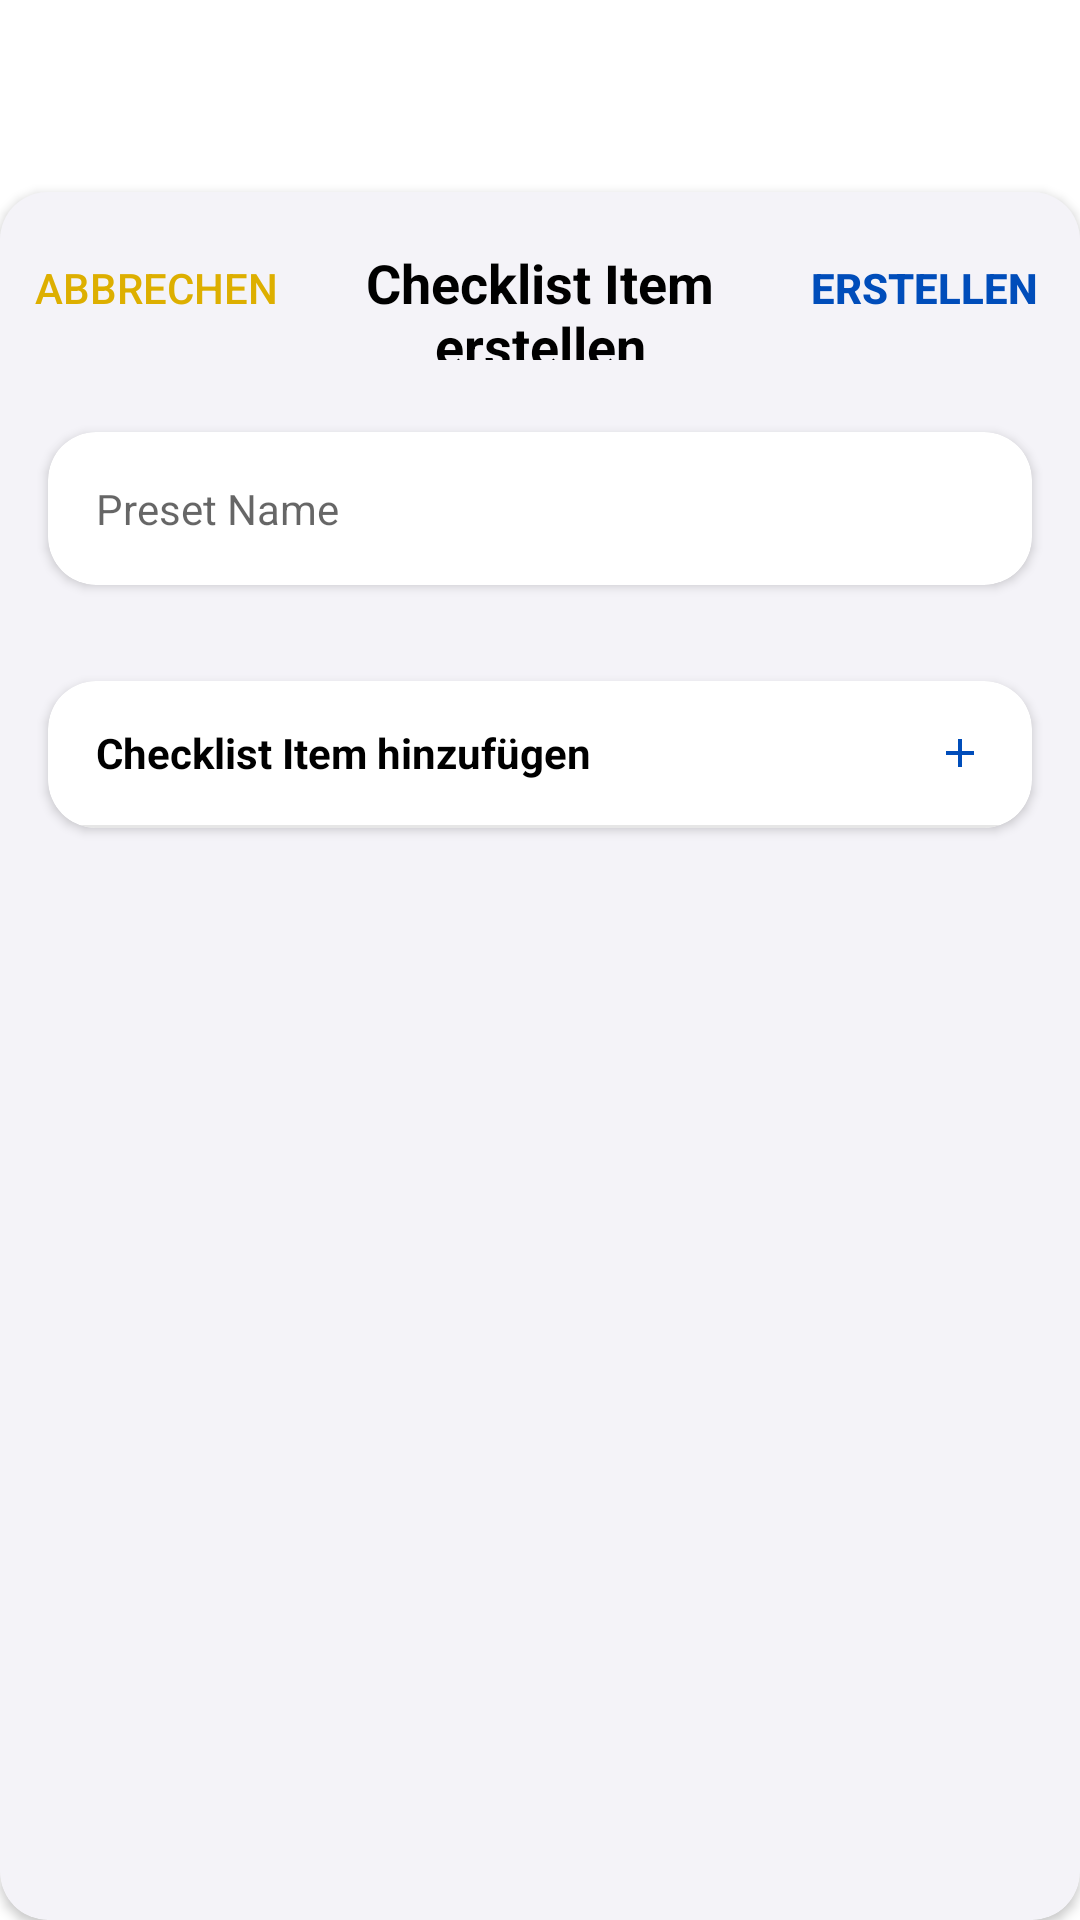

Point at icon controls on the screen. Image size 1080x1920, points as point (x, y).
add: point (960, 753)
